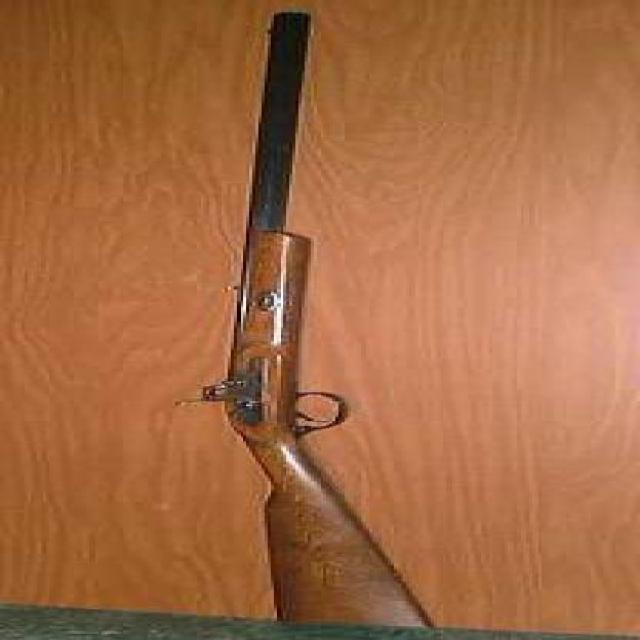weapon: (222, 15, 436, 628)
